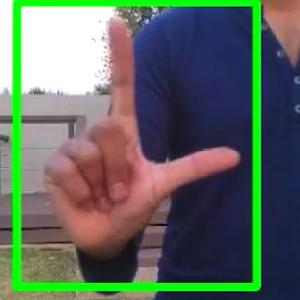land_hand: (32, 7, 249, 265)
